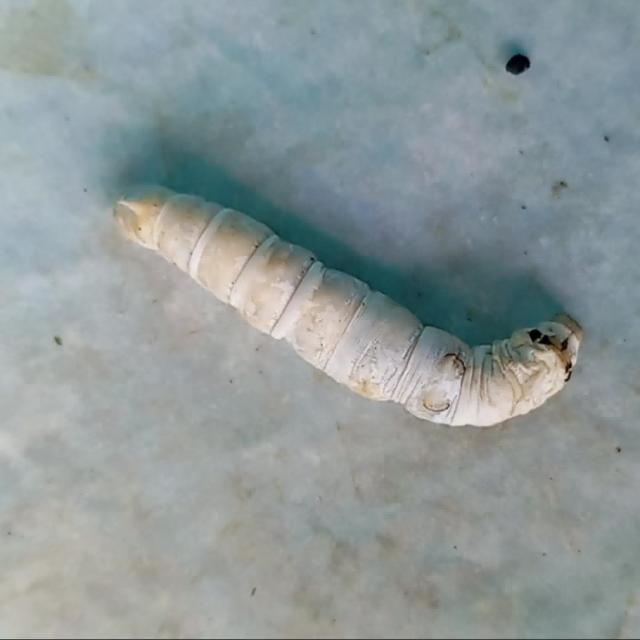Grasserie: (102, 167, 593, 440)
